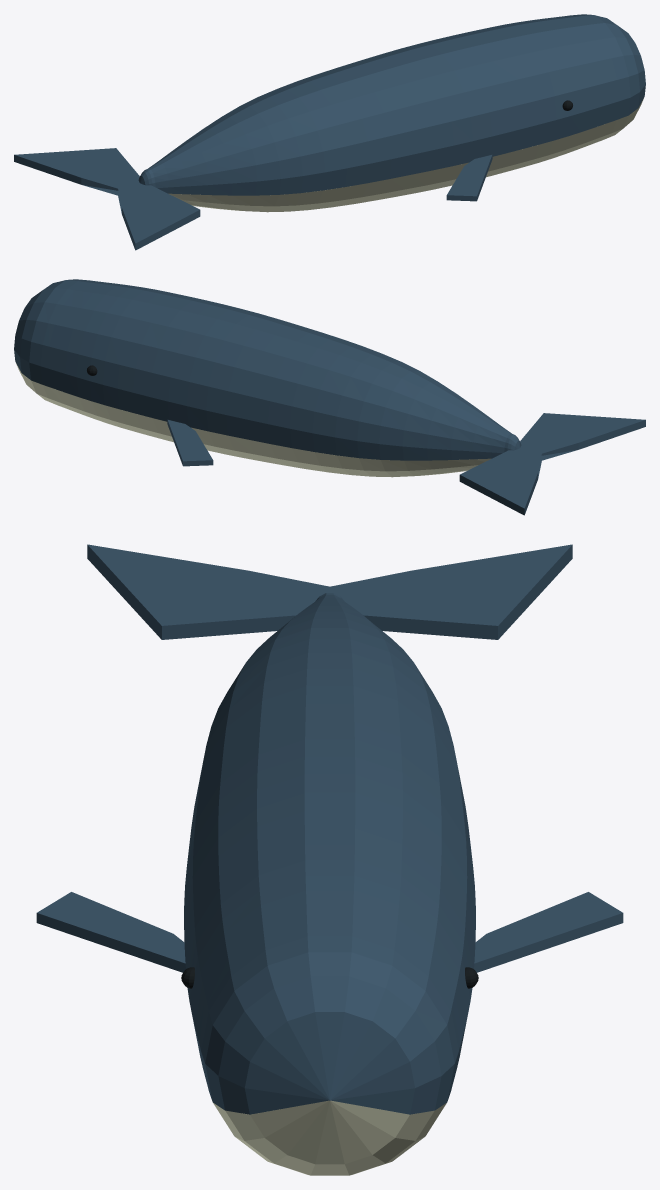
The model's file is sperm-whale.dae.
3 views of the same model, one above another, from view 1: azimuth 30°, elevation 25°; view 2: azimuth 150°, elevation 25°; view 3: azimuth 270°, elevation 25° (orthographic). The views are drawn at different scales.
Parts seen in each view (by area): view 1: part2-node, part1-node; view 2: part2-node, part1-node; view 3: part2-node, part1-node.
Boxes of the visible parts, x1,y1,x2,y2 form: part2-node: (14, 14, 645, 250); part1-node: (168, 98, 643, 212); part2-node: (14, 279, 645, 515); part1-node: (16, 363, 491, 477); part2-node: (36, 544, 623, 1114); part1-node: (213, 1100, 446, 1175).
Bounding box in the file's own units: 16 × 7.22 × 3.54.
